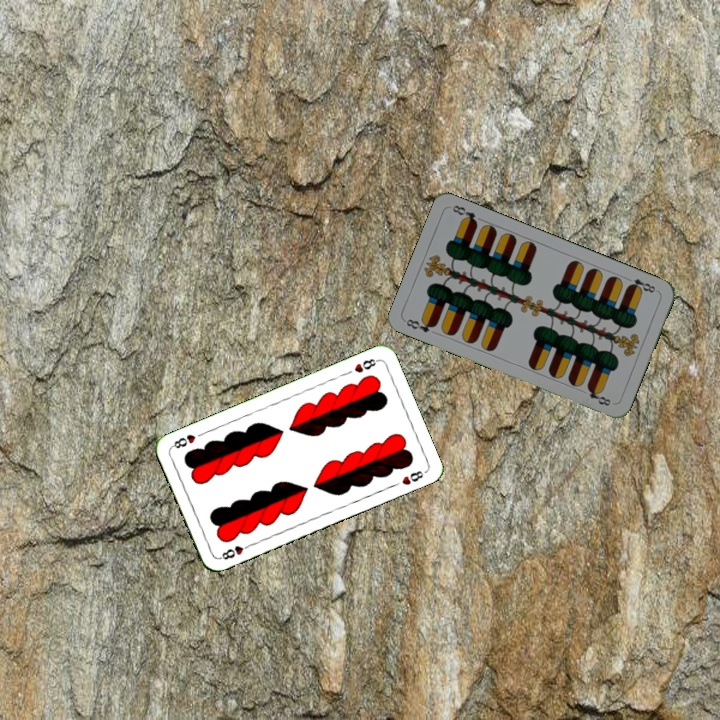E8: (622, 273, 660, 295), (402, 315, 439, 335)
H8: (215, 540, 254, 562), (350, 354, 381, 375)
